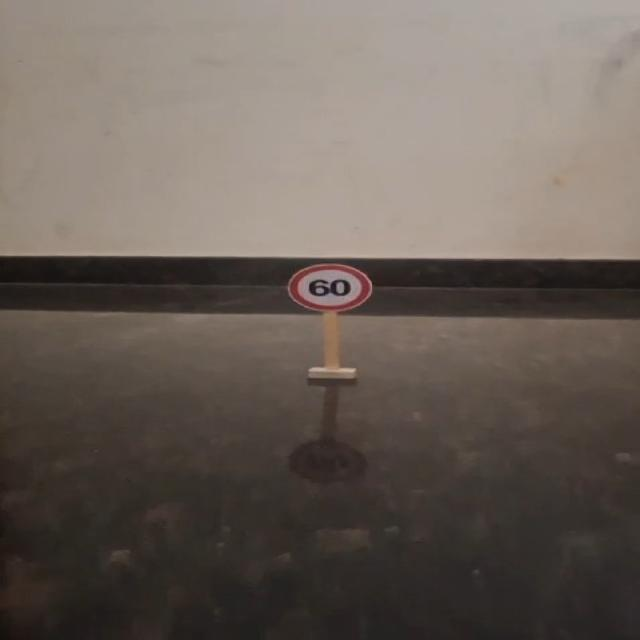Speed60: (276, 256, 380, 318)
